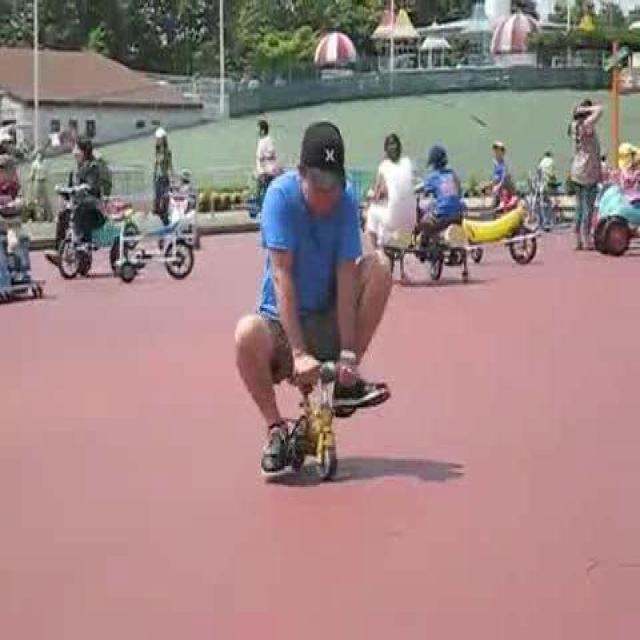other: (456, 193, 545, 258), (302, 367, 352, 458)
